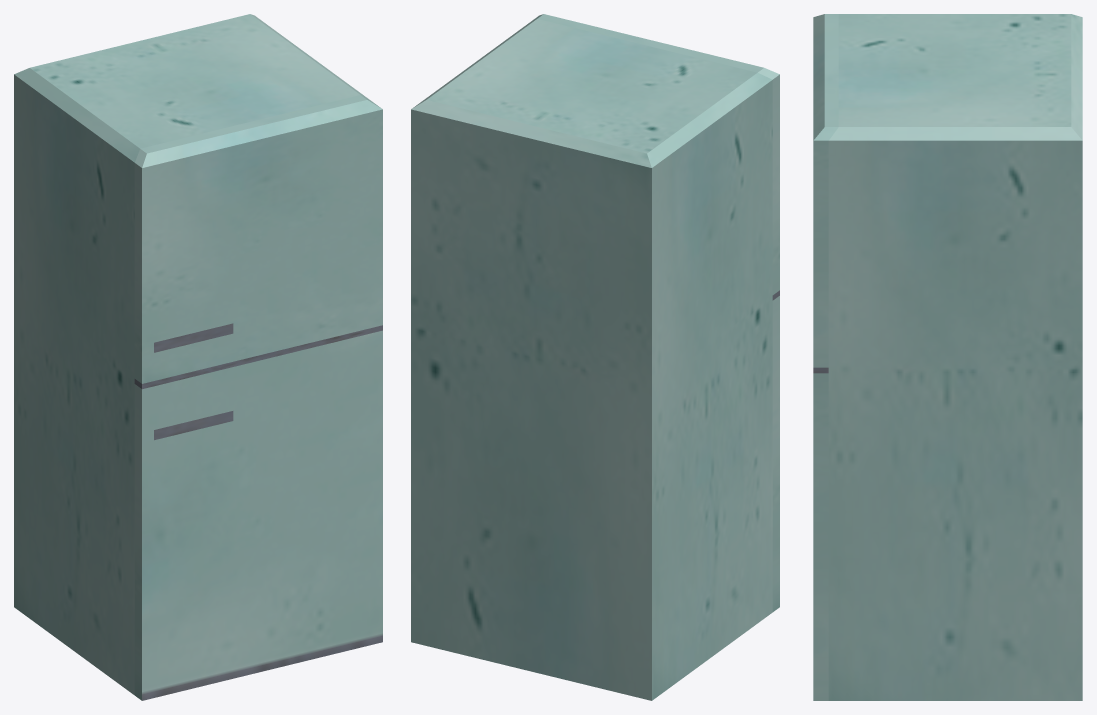
Rendered from Frigo.fbx.
3 renders of one model, left to right at view 1: azimuth 30°, elevation 25°; view 2: azimuth 150°, elevation 25°; view 3: azimuth 270°, elevation 25°, orthographic. The views are drawn at different scales.
Parts seen in each view (by area): view 1: Cube; view 2: Cube; view 3: Cube.
Part boxes in pixels (x1,y1,x2,y2): Cube: (14, 14, 382, 700); Cube: (411, 14, 779, 700); Cube: (813, 14, 1082, 700).
Bounding box in the file's own units: 607 × 1302 × 570.
Materials: 1 (1 with a texture image).
